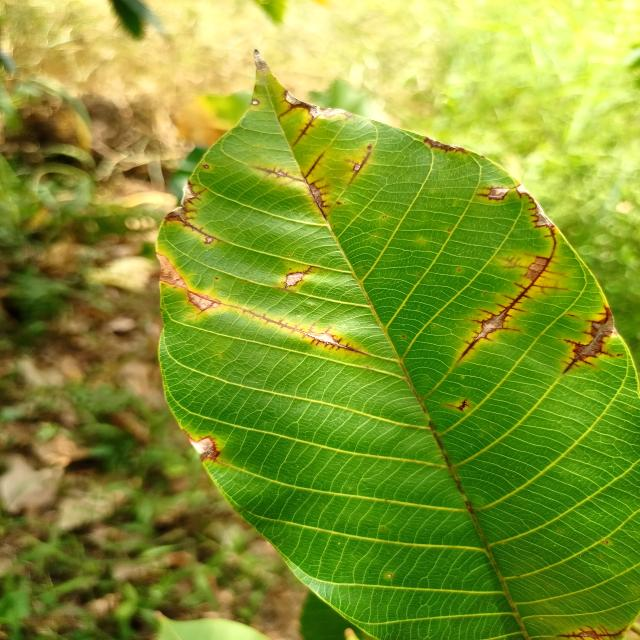Colletotrichum: (251, 99, 260, 105), (202, 164, 210, 170), (387, 574, 392, 578)
Corynespora: (457, 252, 569, 362), (221, 303, 363, 354), (561, 305, 624, 373), (526, 194, 559, 252), (300, 171, 329, 221), (252, 166, 306, 184), (345, 152, 372, 185), (181, 220, 221, 242), (294, 116, 316, 148), (476, 185, 512, 201), (304, 153, 324, 180), (443, 398, 471, 412), (277, 105, 294, 123), (194, 188, 208, 201), (305, 265, 318, 275)
Leaf-Blight: (285, 91, 346, 118), (517, 184, 552, 225), (556, 623, 626, 640), (156, 253, 188, 290), (164, 183, 194, 220), (187, 290, 222, 312), (190, 438, 214, 462), (253, 50, 269, 70), (285, 272, 305, 287), (488, 189, 510, 199)
